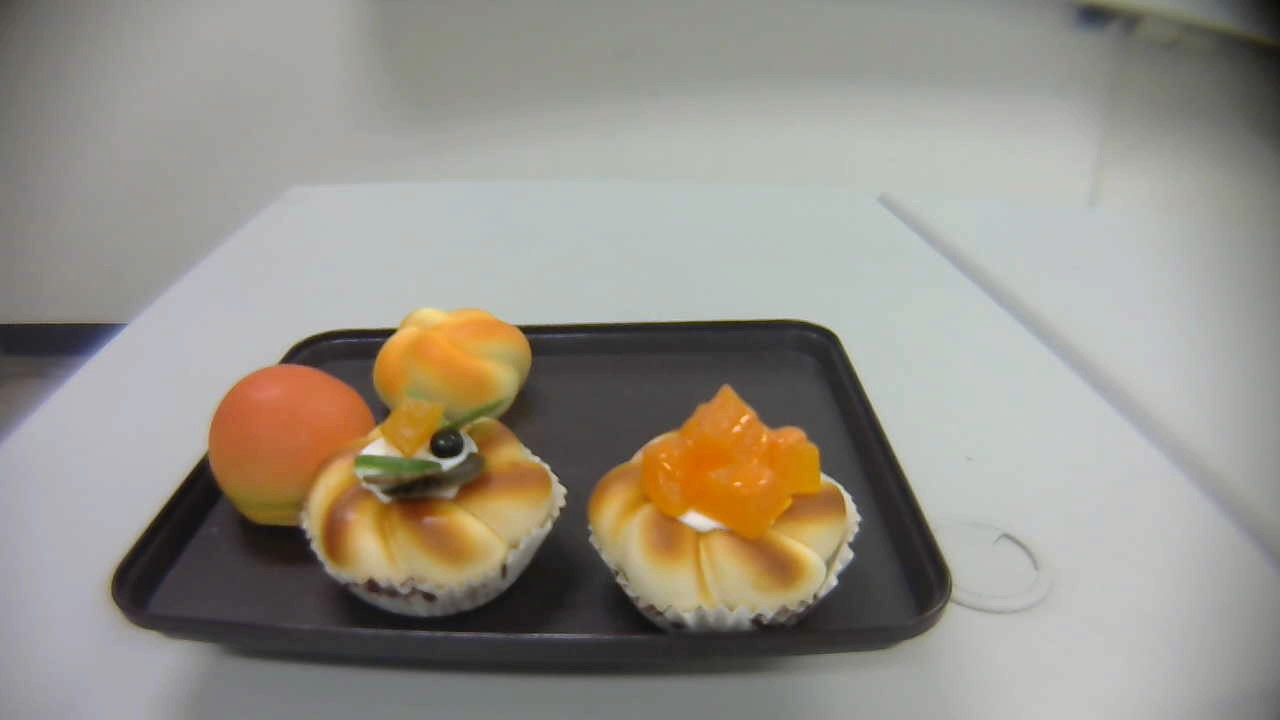bun: (207, 364, 387, 526)
fruit tart: (304, 392, 565, 613)
mango tart: (586, 385, 862, 635)
twist bread: (373, 305, 532, 425)
